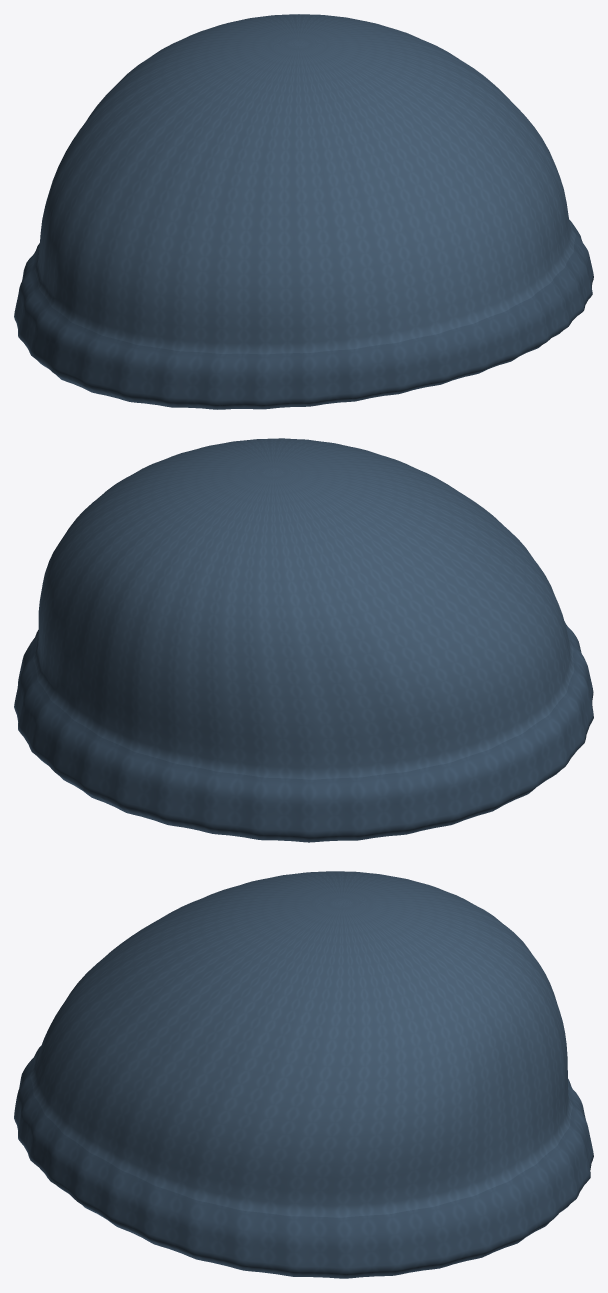
The model's file is beanie-masculine-afro.glb.
3 renders of one model, top to bottom at view 1: azimuth 30°, elevation 25°; view 2: azimuth 150°, elevation 25°; view 3: azimuth 270°, elevation 25°, orthographic. The views are drawn at different scales.
Visible parts, largest first — view 1: Beanie / fitted knit; view 2: Beanie / fitted knit; view 3: Beanie / fitted knit.
Boxes of the visible parts, left/top/right/bottom form: Beanie / fitted knit: left=14, top=14, right=593, bottom=409; Beanie / fitted knit: left=14, top=438, right=593, bottom=842; Beanie / fitted knit: left=14, top=871, right=593, bottom=1278.
Bounding box in the file's own units: 0.8228 × 0.4059 × 0.7887.
Materials: 2 (2 with a texture image).
